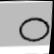no answer: (15, 14, 53, 43)
